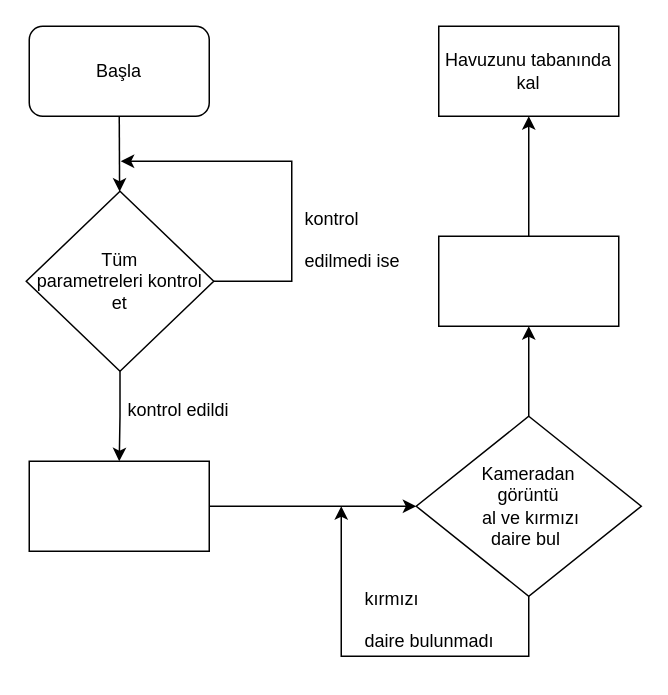
Image size: 668x695. Some labels were removed from this diagram. The shapes that lost their labels are listed below. From the top down, each one's box as (x1, y1, x2, y2) in pixels, then its label:
(437, 235, 619, 326): kırmızı dairenein ortasınada yerleştir
(28, 460, 209, 551): Tarama algoritması çalıştır
